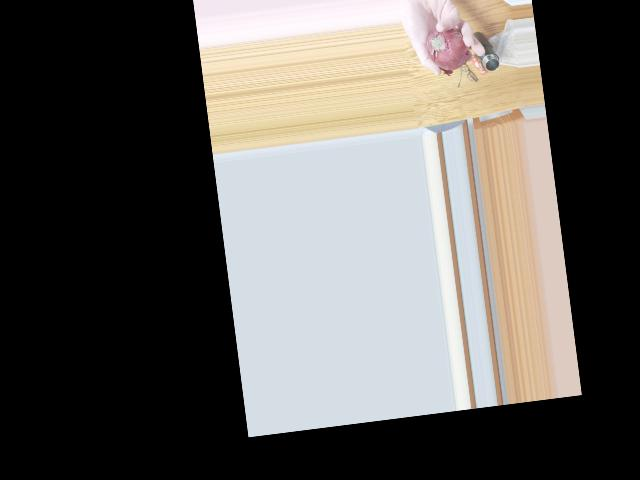onion: (424, 25, 467, 71)
